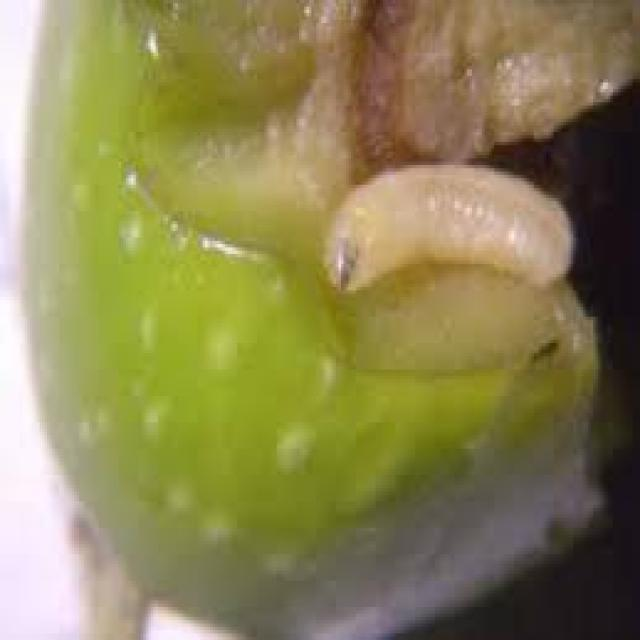Anthracnose: (32, 0, 635, 637)
